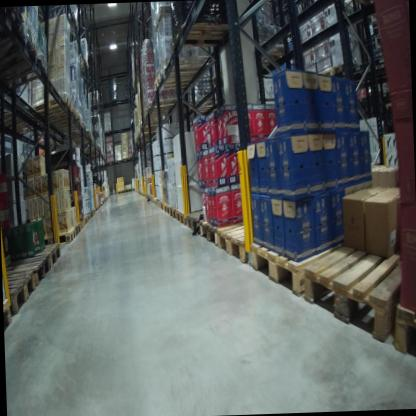pallet: (299, 229, 412, 345), (248, 224, 368, 303), (38, 156, 130, 250), (216, 213, 291, 265), (0, 34, 56, 95), (2, 251, 54, 296), (230, 41, 296, 74), (169, 17, 237, 49), (13, 239, 62, 275), (4, 269, 42, 315), (391, 302, 416, 367), (0, 8, 30, 57), (199, 218, 236, 255), (159, 54, 213, 79), (153, 68, 210, 90), (186, 210, 222, 241), (32, 96, 73, 120), (0, 103, 36, 129), (144, 96, 185, 114), (11, 118, 44, 140), (331, 58, 362, 81), (3, 297, 18, 329), (187, 99, 216, 112), (176, 208, 192, 228), (315, 66, 334, 81), (79, 56, 91, 74), (164, 201, 173, 217), (74, 222, 81, 236), (81, 215, 89, 227), (169, 205, 176, 218), (79, 218, 86, 231), (384, 103, 393, 111), (106, 158, 114, 166), (106, 128, 112, 135), (87, 212, 92, 220), (117, 189, 125, 193)
